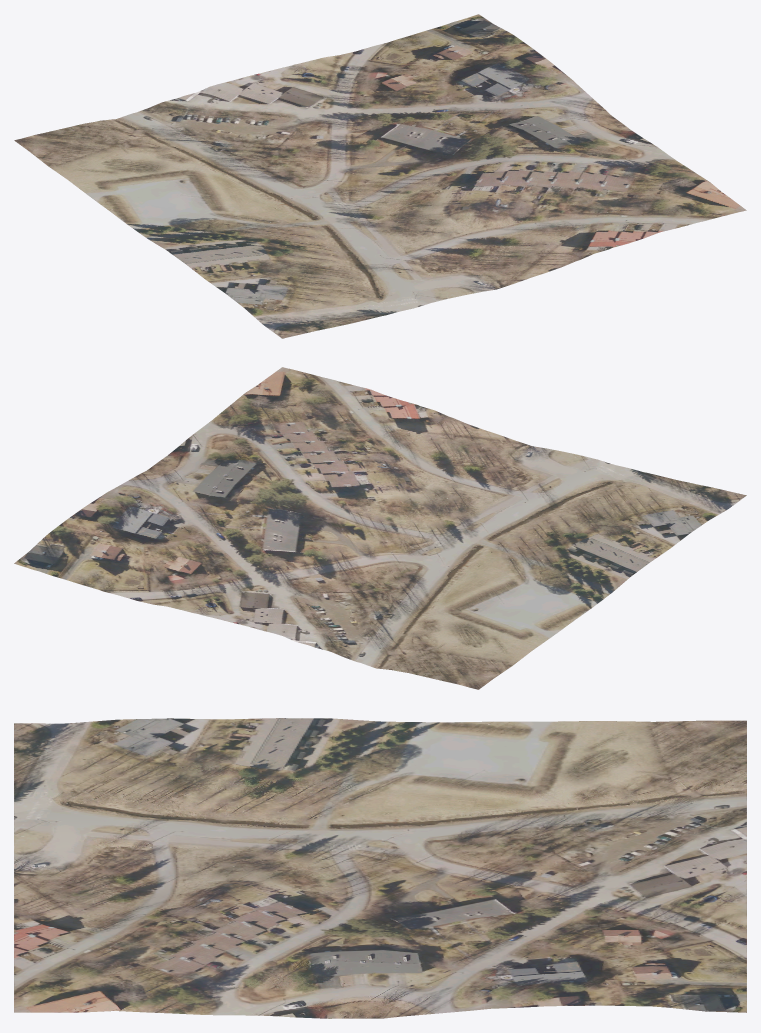
The model's file is CM_Terrain_24490868_6821227.fbx.
3 views of the same model, one above another, from view 1: azimuth 30°, elevation 25°; view 2: azimuth 150°, elevation 25°; view 3: azimuth 270°, elevation 25° (orthographic). The views are drawn at different scales.
Parts seen in each view (by area): view 1: CM_Terrain_24490868_6821227_LOD0; view 2: CM_Terrain_24490868_6821227_LOD0; view 3: CM_Terrain_24490868_6821227_LOD0.
Part boxes in pixels (left/top/right/bottom): CM_Terrain_24490868_6821227_LOD0: left=14, top=14, right=746, bottom=338; CM_Terrain_24490868_6821227_LOD0: left=14, top=367, right=746, bottom=689; CM_Terrain_24490868_6821227_LOD0: left=14, top=718, right=746, bottom=1018.
Size of what is drawn, in the model's own units: 205 by 9.82 by 205.
